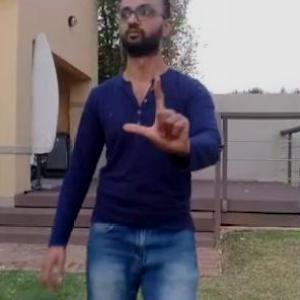land_hand: (120, 68, 194, 157)
